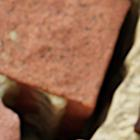brick: (0, 0, 130, 108), (132, 106, 139, 135)
broken_brick: (0, 103, 18, 139)
crack: (0, 0, 139, 139)
